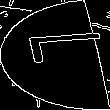L_E: (6, 36, 104, 74)
